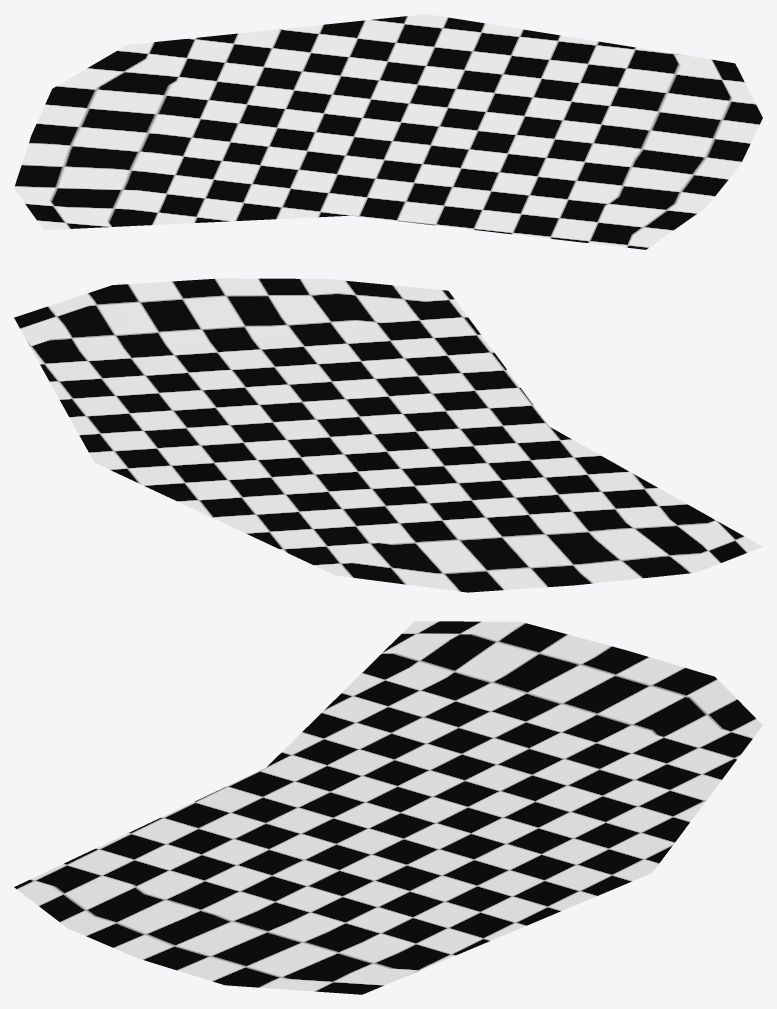
File: waterpool2.fbx
3 views of the same model, one above another, from view 1: azimuth 30°, elevation 25°; view 2: azimuth 150°, elevation 25°; view 3: azimuth 270°, elevation 25° (orthographic). The views are drawn at different scales.
Parts seen in each view (by area): view 1: WaterPool2; view 2: WaterPool2; view 3: WaterPool2.
Part boxes in pixels (x1,y1,x2,y2): WaterPool2: (14, 14, 762, 249); WaterPool2: (14, 278, 762, 592); WaterPool2: (14, 621, 762, 994).
Bounding box in the file's own units: 3485 × 2780 × 163.
